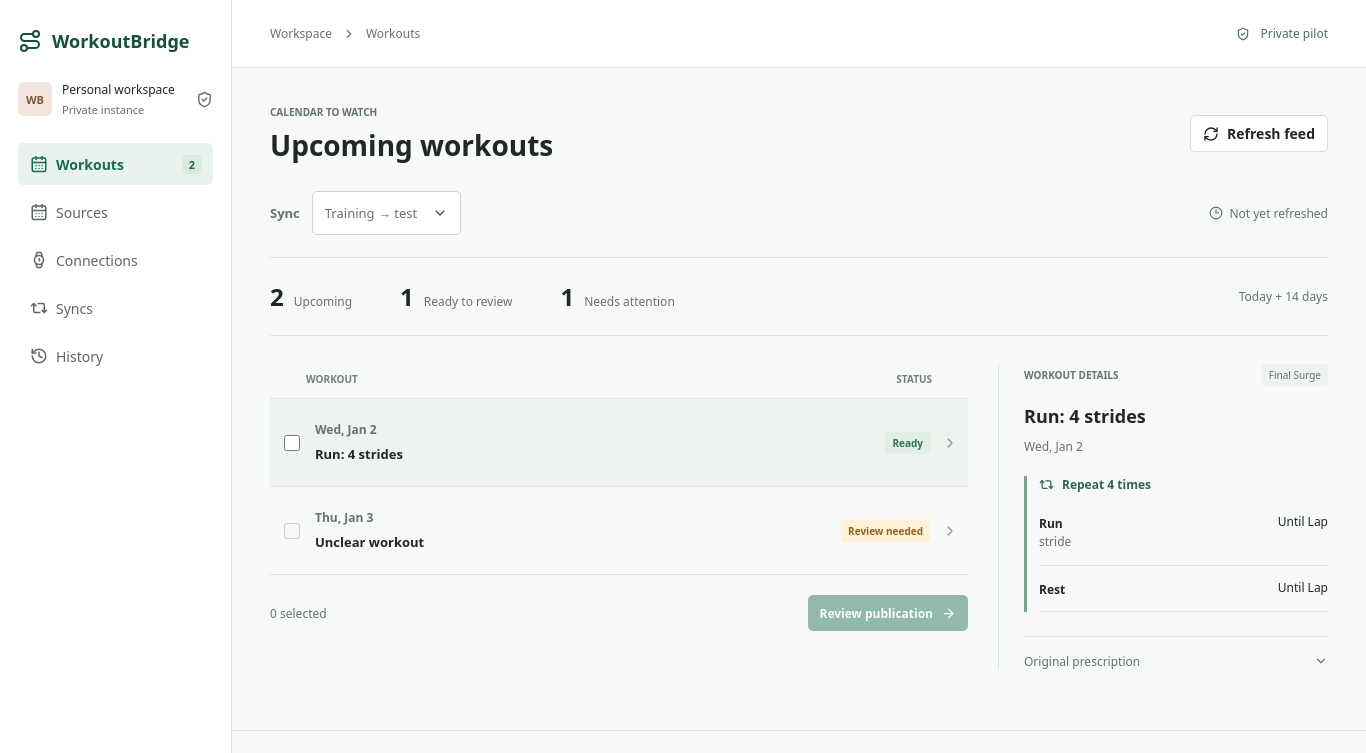
Test: Garmin and COROS connect actions are peers in one provider group
The image size is (1366, 753).
Click the button "Connections" at (116, 260), box [18, 239, 213, 281]
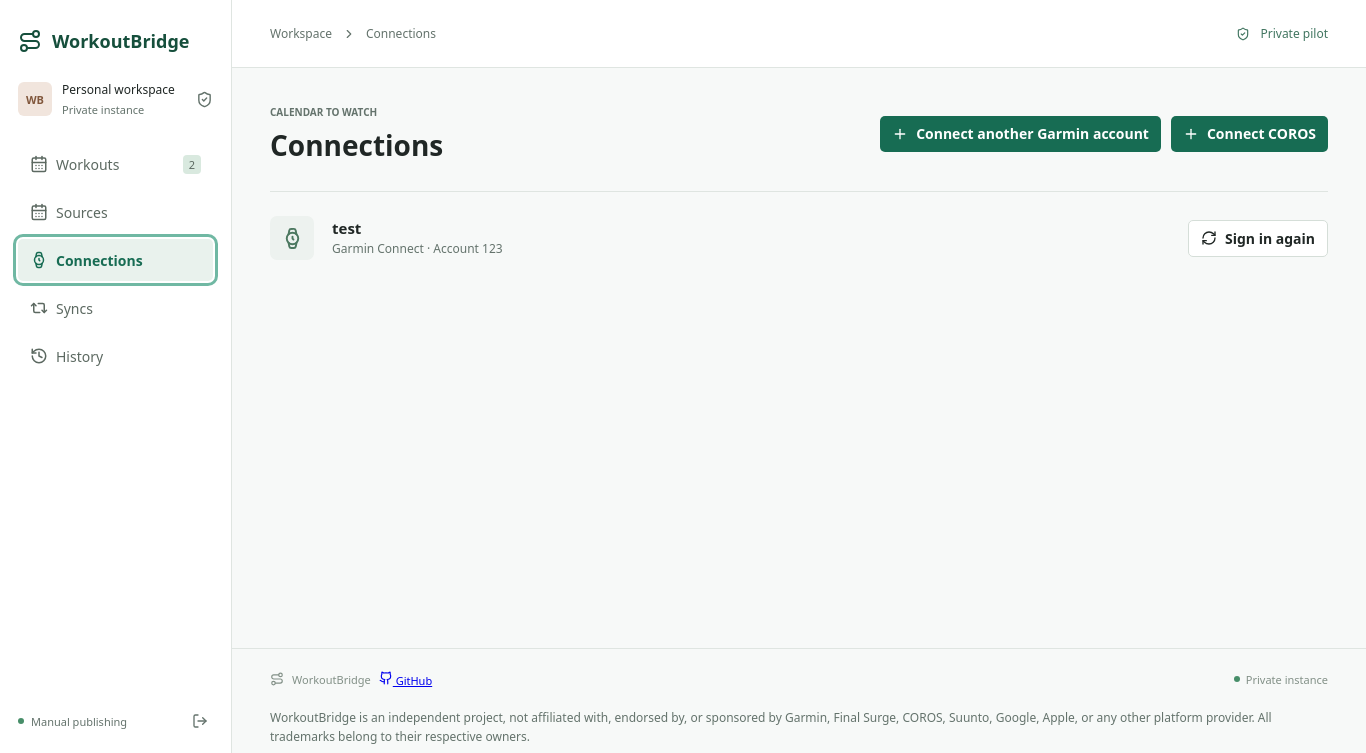
Expected: the number of buttons "Connect COROS" is 1, [1171, 116, 1328, 152]
